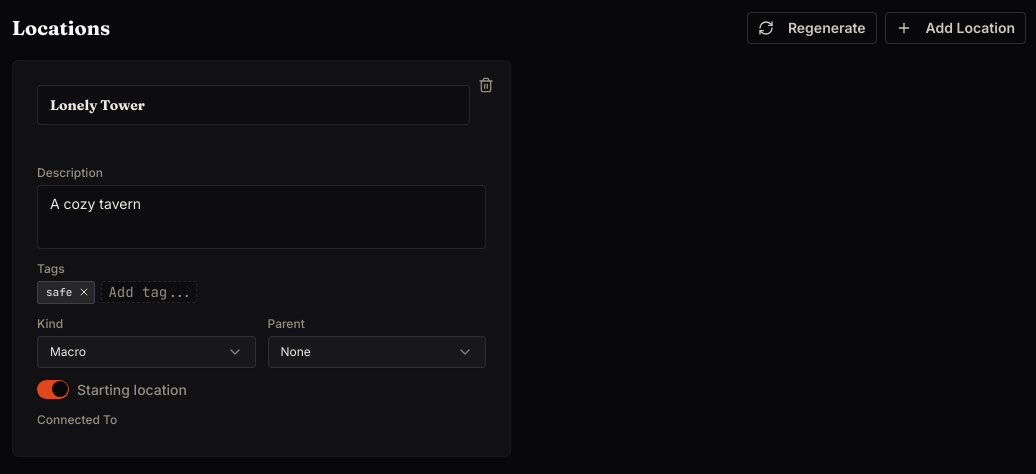
Test: LocationsSection › does not offer persistent sublocation kind when no macro parent exists
The width and height of the screenshot is (1036, 474).
Click the dropdown named "kind for lonely tower": (146, 352) left=37, top=336, right=256, bottom=368
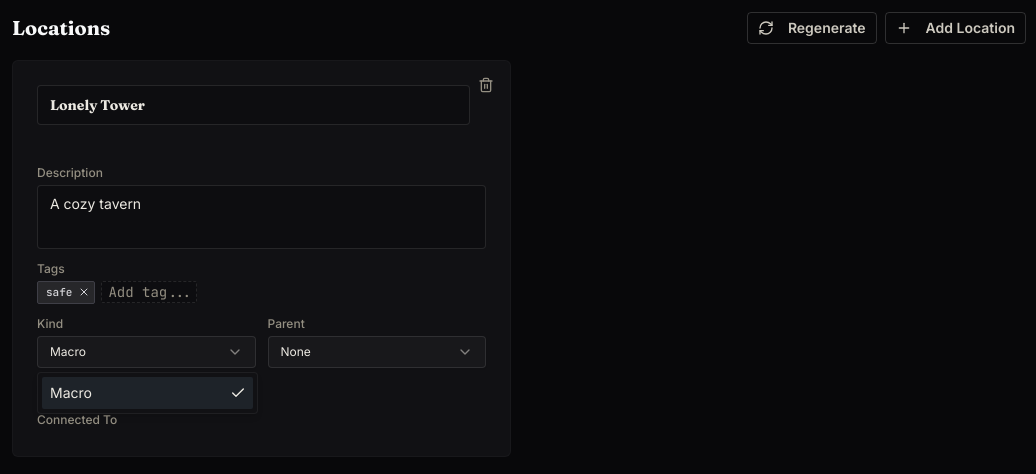
Expected: the option "Macro" is shown, left=42, top=377, right=252, bottom=409
